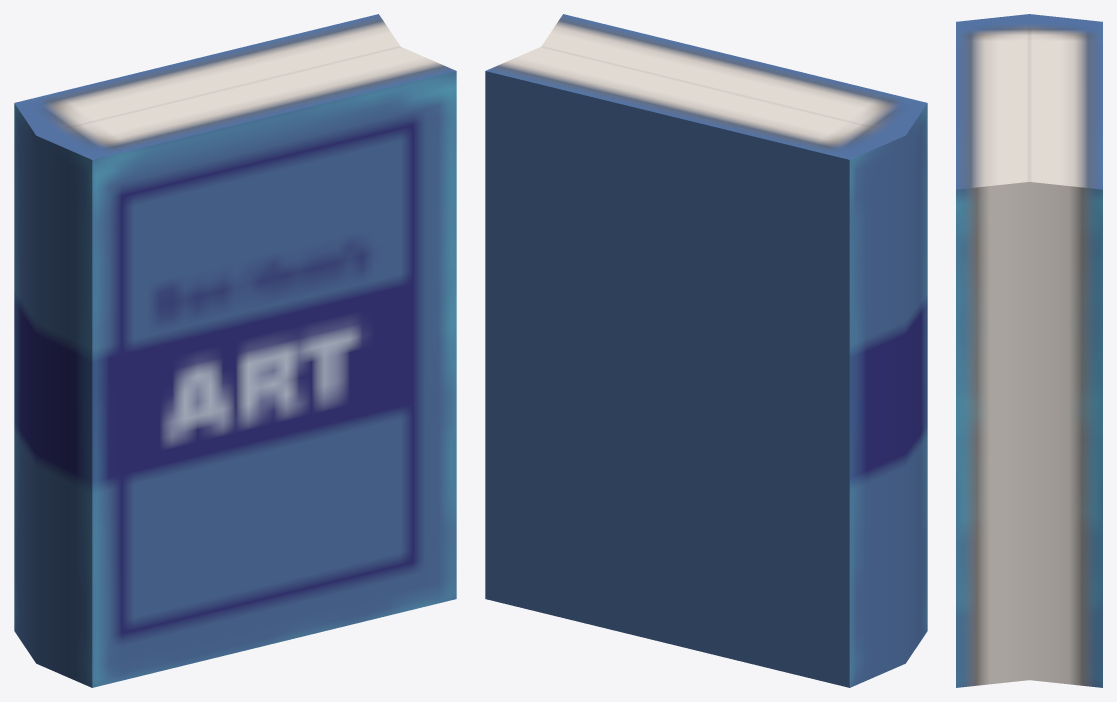
The model's file is TNP0110008.FBX.
3 renders of one model, left to right at view 1: azimuth 30°, elevation 25°; view 2: azimuth 150°, elevation 25°; view 3: azimuth 270°, elevation 25°, orthographic. The views are drawn at different scales.
Parts seen in each view (by area): view 1: smTNP0110008; view 2: smTNP0110008; view 3: smTNP0110008.
Boxes of the visible parts, x1,y1,x2,y2 form: smTNP0110008: (14, 14, 456, 687); smTNP0110008: (485, 14, 927, 687); smTNP0110008: (956, 14, 1102, 687).
Bounding box in the file's own units: 0.1976 × 0.2613 × 0.0699.
1 material, 1 textured.
